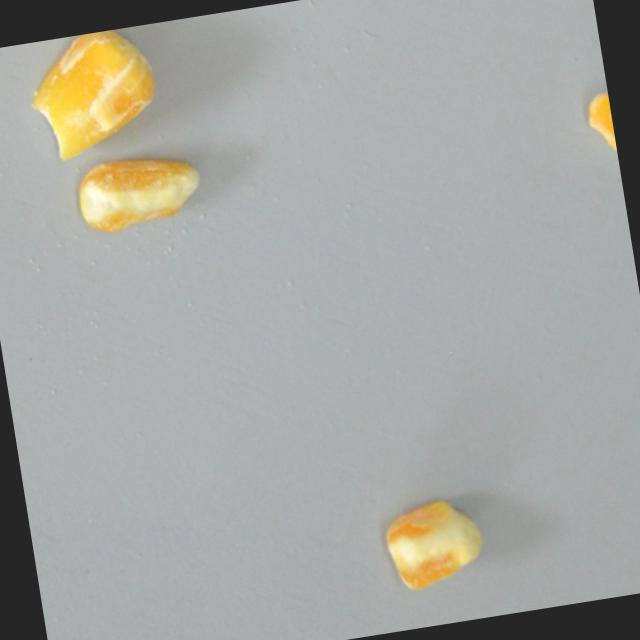dañado: (18, 23, 168, 167), (69, 144, 208, 239), (377, 489, 493, 598), (581, 86, 619, 167)
